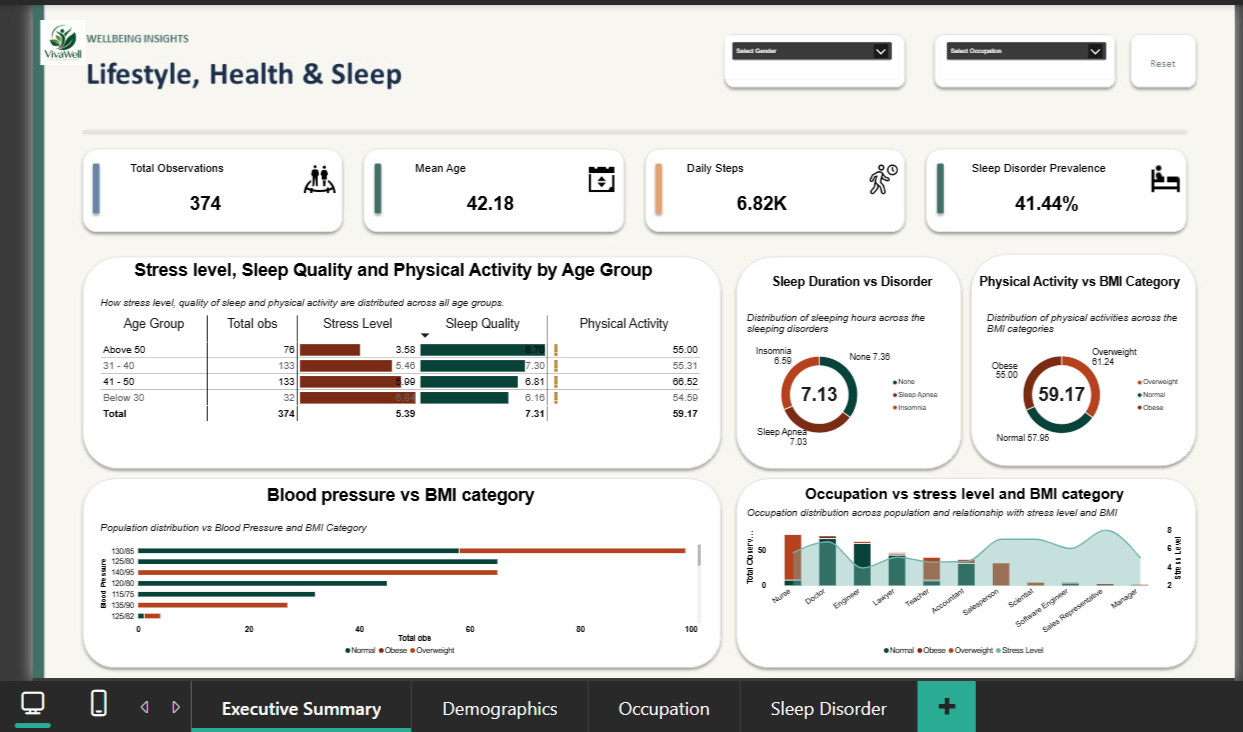

The dashboard page shown, as its layout file describes it:
{"tool":"powerbi","page":{"name":"Executive  Summary","canvas":[2560,1440],"ordinal":0},"visuals":[{"type":"card","title":"Total Observations","fields":{"Values":["o_measures.Total obs"]},"box":[192,320,352,160],"z":0},{"type":"card","title":"Mean Age","fields":{"Values":["o_measures.Avg Age"]},"box":[800,320,352,160],"z":1000},{"type":"card","title":"Daily Steps","fields":{"Values":["o_measures.Daily Steps"]},"box":[1376,320,352,160],"z":2000},{"type":"card","title":"Sleep Disorder Prevalence","fields":{"Values":["o_measures.Disorder Prevalence"]},"box":[1984,320,352,160],"z":3000},{"type":"tableEx","fields":{"Values":["cleaned_sleep_lifestyle_data.Age Group","o_measures.Total obs","o_measures.Stress Level","o_measures.Sleep Quality","o_measures.Physical Activity"]},"box":[128,608,1312,352],"z":4000},{"type":"donutChart","fields":{"Category":["cleaned_sleep_lifestyle_data.BMI Category"],"Y":["o_measures.Physical Activity"]},"box":[2016,640,448,320],"z":5000},{"type":"donutChart","fields":{"Category":["cleaned_sleep_lifestyle_data.Sleep Disorder"],"Y":["o_measures.Sleep Duration"]},"box":[1504,640,448,320],"z":6000},{"type":"barChart","fields":{"Category":["cleaned_sleep_lifestyle_data.Blood Pressure"],"Series":["cleaned_sleep_lifestyle_data.BMI Category"],"Y":["o_measures.Total obs"]},"box":[128,1088,1312,320],"z":7000},{"type":"lineStackedColumnComboChart","fields":{"Category":["cleaned_sleep_lifestyle_data.Occupation"],"Series":["cleaned_sleep_lifestyle_data.BMI Category"],"Y":["o_measures.Total obs"],"Y2":["o_measures.Stress Level"]},"box":[1504,1056,960,352],"z":8000},{"type":"listSlicer","fields":{"Values":["cleaned_sleep_lifestyle_data.Gender"]},"box":[1472,64,374,96],"z":10000},{"type":"actionButton","box":[2336,64,128,96],"z":11000},{"type":"textbox","box":[128,544,1280,64],"z":12000},{"type":"textbox","box":[128,1024,1312,64],"z":13000},{"type":"textbox","box":[1536,576,416,32],"z":14000},{"type":"textbox","box":[2016,576,448,32],"z":15000},{"type":"textbox","box":[1536,1024,896,64],"z":16000},{"type":"listSlicer","fields":{"Values":["cleaned_sleep_lifestyle_data.Occupation"]},"box":[1930.7,64,374,96],"z":17000},{"type":"image","box":[0,32,128,96],"z":18000},{"type":"image","box":[576,336,72,72],"z":19000},{"type":"image","box":[1176,336,72,72],"z":20000},{"type":"image","box":[2376,336,72,72],"z":21000},{"type":"image","box":[1776,336,72,72],"z":22000}]}

Visuals, with their boxes on the page's 2560x1440 design canvas (x1, y1, x2, y2). These are canvas units, not pixel positions in the 1243x732 screenshot, which may show the page scaled, cropped or inside an application window:
"Total Observations" card: locate(192, 320, 544, 480)
"Mean Age" card: locate(800, 320, 1152, 480)
"Daily Steps" card: locate(1376, 320, 1728, 480)
"Sleep Disorder Prevalence" card: locate(1984, 320, 2336, 480)
tableEx - cleaned_sleep_lifestyle_data.Age Group x o_measures.Total obs: locate(128, 608, 1440, 960)
donutChart - cleaned_sleep_lifestyle_data.BMI Category x o_measures.Physical Activity: locate(2016, 640, 2464, 960)
donutChart - cleaned_sleep_lifestyle_data.Sleep Disorder x o_measures.Sleep Duration: locate(1504, 640, 1952, 960)
barChart - cleaned_sleep_lifestyle_data.Blood Pressure x cleaned_sleep_lifestyle_data.BMI Category: locate(128, 1088, 1440, 1408)
lineStackedColumnComboChart - cleaned_sleep_lifestyle_data.Occupation x cleaned_sleep_lifestyle_data.BMI Category: locate(1504, 1056, 2464, 1408)
listSlicer - cleaned_sleep_lifestyle_data.Gender: locate(1472, 64, 1846, 160)
actionButton: locate(2336, 64, 2464, 160)
textbox: locate(128, 544, 1408, 608)
textbox: locate(128, 1024, 1440, 1088)
textbox: locate(1536, 576, 1952, 608)
textbox: locate(2016, 576, 2464, 608)
textbox: locate(1536, 1024, 2432, 1088)
listSlicer - cleaned_sleep_lifestyle_data.Occupation: locate(1931, 64, 2305, 160)
image: locate(0, 32, 128, 128)
image: locate(576, 336, 648, 408)
image: locate(1176, 336, 1248, 408)
image: locate(2376, 336, 2448, 408)
image: locate(1776, 336, 1848, 408)
